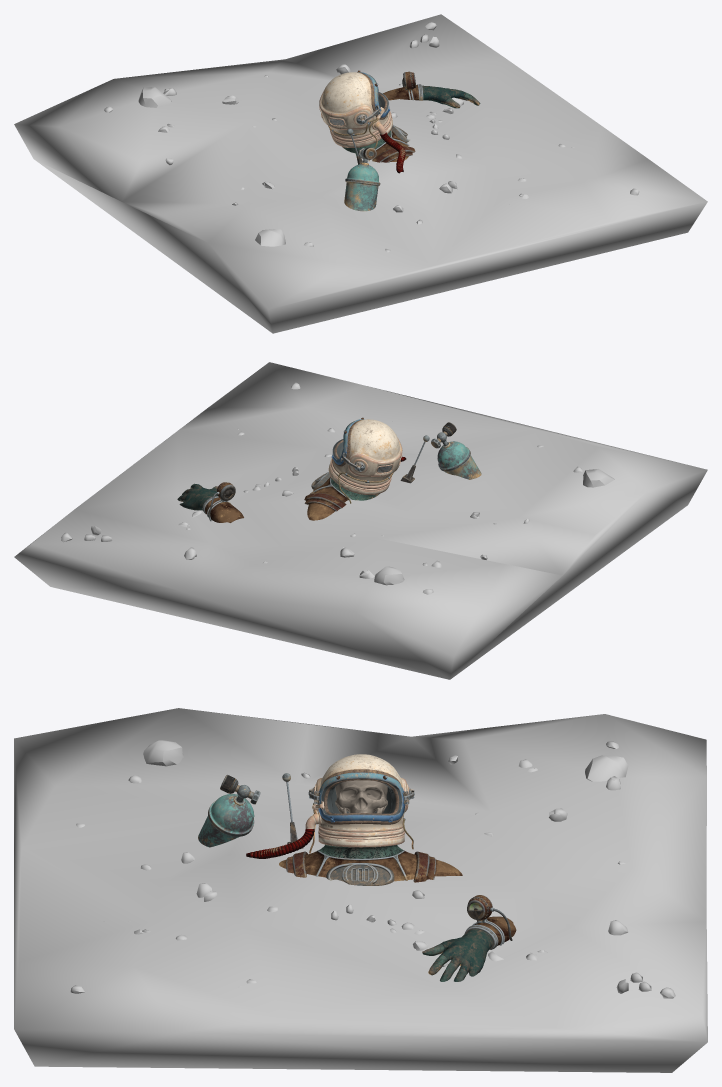
File: lost_astronaut.dae
The picture shows the model from 3 angles, top to bottom: view 1: azimuth 30°, elevation 25°; view 2: azimuth 150°, elevation 25°; view 3: azimuth 270°, elevation 25°; orthographic projection. The views are drawn at different scales.
Visible parts, largest first — view 1: sand, base, stones, balloon, hand, base_body; view 2: sand, base, stones, hand, base_body, balloon; view 3: sand, base_body, stones, hand, base, balloon, glass_border, skull, pipe.
Boxes of the visible parts, <box> form: sand: <box>14,14,707,333</box>; base: <box>319,72,392,147</box>; stones: <box>104,22,639,252</box>; balloon: <box>344,147,380,211</box>; hand: <box>383,71,480,108</box>; base_body: <box>342,125,415,162</box>; sand: <box>14,362,707,679</box>; base: <box>328,419,402,494</box>; stones: <box>61,382,614,594</box>; hand: <box>177,482,243,522</box>; base_body: <box>304,472,379,520</box>; balloon: <box>437,422,481,479</box>; sand: <box>14,708,707,1072</box>; base_body: <box>279,844,462,885</box>; stones: <box>70,740,675,998</box>; hand: <box>422,895,516,981</box>; base: <box>316,754,408,847</box>; balloon: <box>198,774,254,847</box>; glass_border: <box>318,772,405,821</box>; skull: <box>335,780,387,813</box>; pipe: <box>246,812,321,858</box>.
Size of the model in its own units: 40.77 by 40.81 by 11.65.
